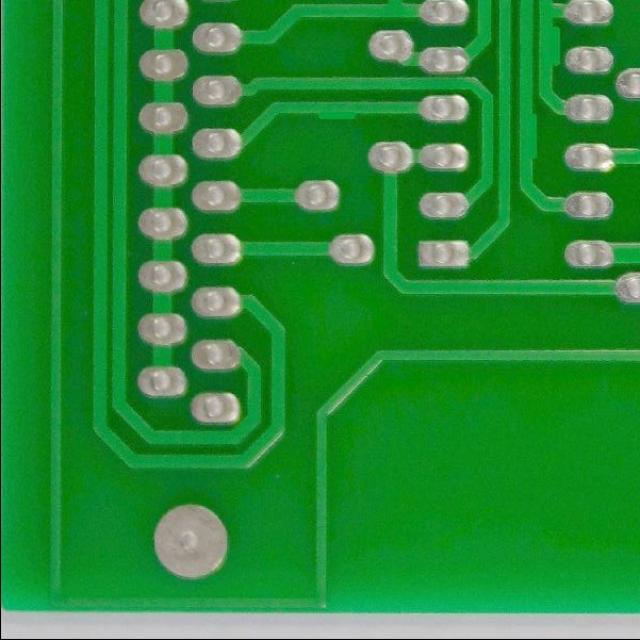spur: (304, 94, 359, 132), (514, 108, 543, 162), (536, 24, 566, 76)
